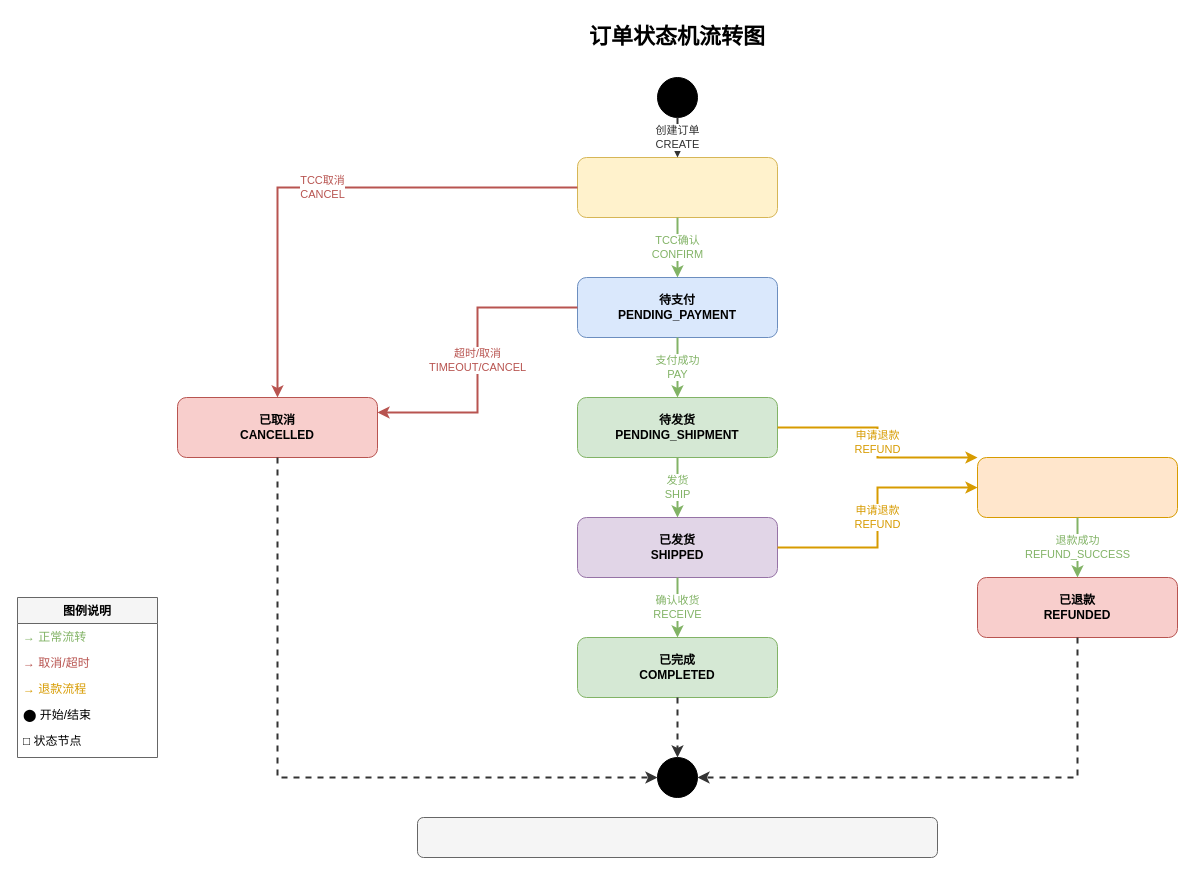
This 1195x875 diagram has some shape labels left out. Each missing label, with the box of its shape:
实现方式：自定义状态机 (OrderStateMachine) 基于观察者模式，通过状态校验和事件驱动实现状态流转: (416, 816, 938, 858)
待确认 PENDING_CONFIRMATION (TCC Try阶段): (576, 156, 778, 218)
退款中 REFUNDING: (976, 456, 1178, 518)
